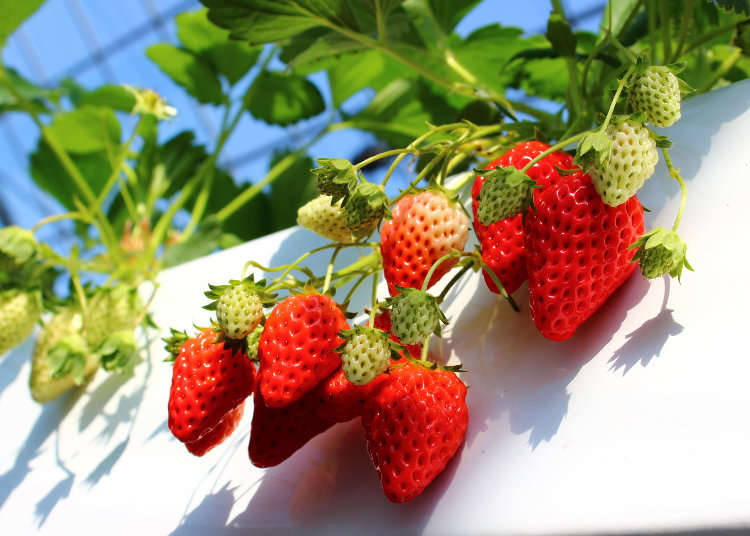ripe: (523, 164, 645, 350), (361, 357, 477, 512), (479, 130, 578, 301), (244, 362, 355, 488), (256, 286, 343, 406), (168, 332, 256, 442), (302, 356, 393, 420), (182, 386, 239, 462)
unripe: (379, 185, 473, 299), (28, 308, 120, 399), (587, 109, 660, 210), (381, 277, 443, 359), (289, 192, 388, 241), (475, 161, 541, 232), (629, 64, 692, 134), (2, 275, 46, 370), (210, 279, 265, 339), (634, 224, 689, 280), (343, 330, 394, 387)
